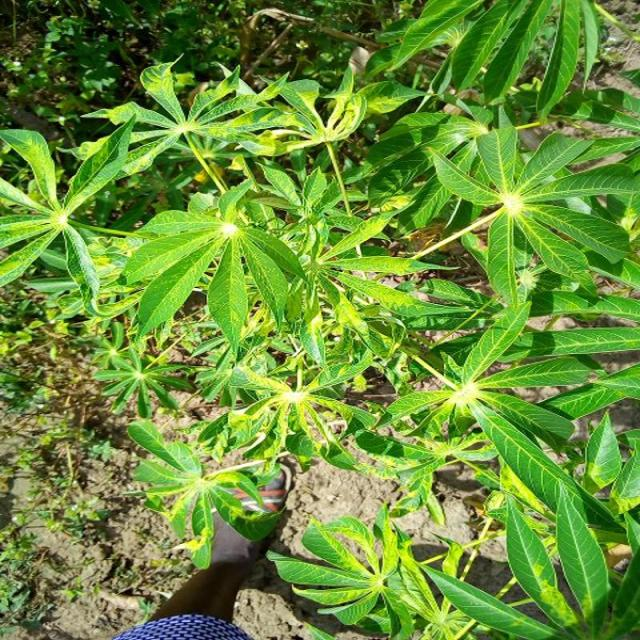cassava leaf: (1, 7, 638, 636), (122, 178, 308, 357), (0, 112, 135, 309)
